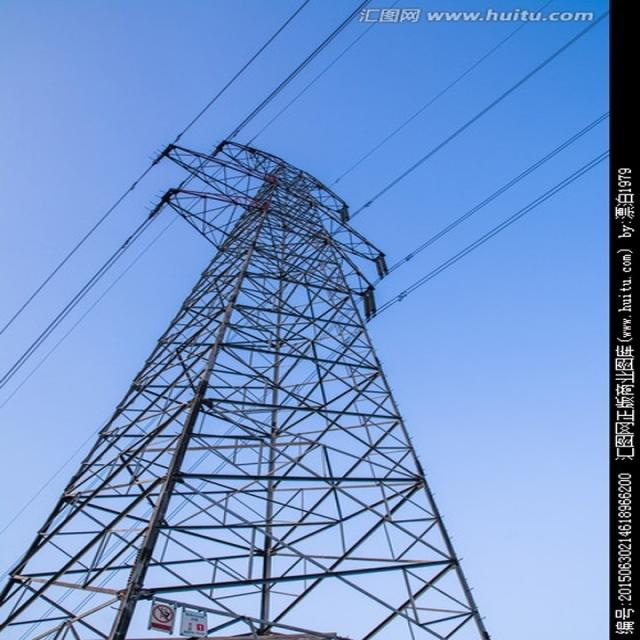non-critical vegetation: (40, 141, 504, 632)
